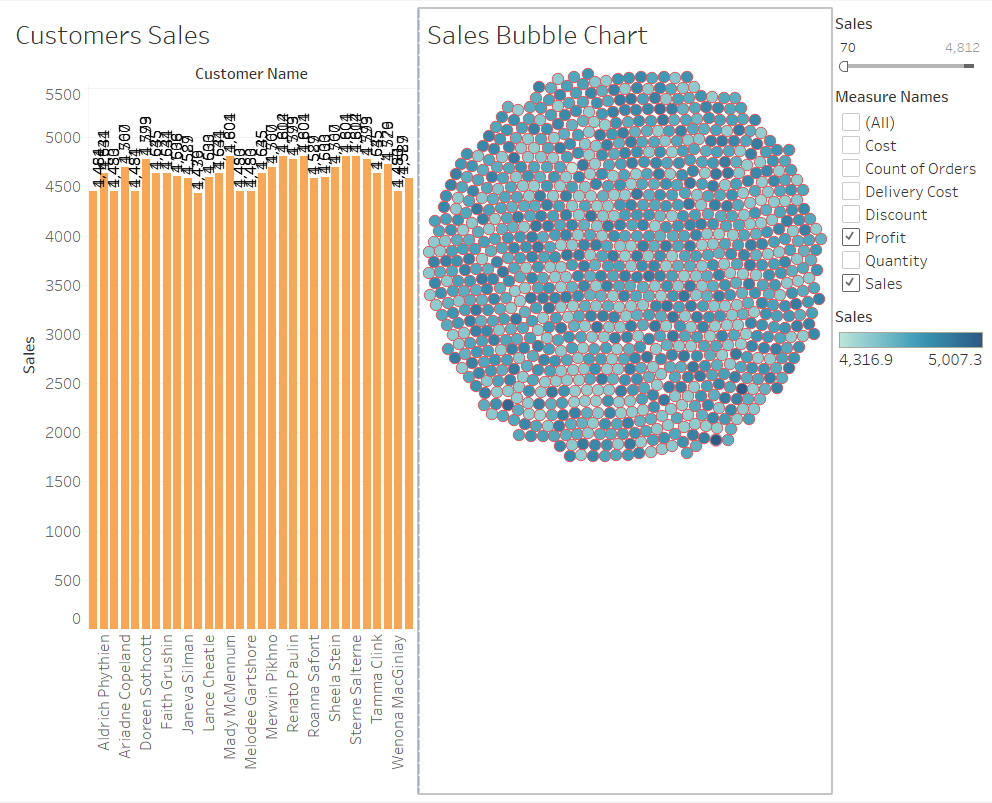

This screenshot's page, from the dashboard's own definition file:
{"tool":"tableau","page":{"name":"Dashboard 1","canvas":[1000,800],"ordinal":0},"visuals":[{"type":"worksheet","title":"Customers Sales","mark":"Automatic","rows":["Sales"],"cols":["Customer Name"],"box":[8,8,412,784]},{"type":"worksheet","title":"Sales Bubble Chart","mark":"Circle","box":[420,8,412,784]},{"type":"filter","title":"Customers Sales","param":"[federated.1w5a8fu1o7yb4117hyact0btv0gf].[sum:Sales:qk]","box":[832,8,160,73]},{"type":"filter","title":"Customers Sales","param":"[federated.1w5a8fu1o7yb4117hyact0btv0gf].[:Measure Names]","box":[832,81,160,220]},{"type":"legend","title":"Sales Bubble Chart","param":"[federated.1w5a8fu1o7yb4117hyact0btv0gf].[sum:Sales:qk]","box":[832,301,160,73]}]}

Visuals, with their boxes in screenshot pixels (x1, y1, x2, y2), scaled from the page's 1000x800 canvas onto the 992x803 screenshot:
"Customers Sales" worksheet: <bbox>8, 8, 417, 795</bbox>
"Sales Bubble Chart" worksheet (Circle marks): <bbox>417, 8, 825, 795</bbox>
"Customers Sales" filter: <bbox>825, 8, 984, 81</bbox>
"Customers Sales" filter: <bbox>825, 81, 984, 302</bbox>
"Sales Bubble Chart" legend: <bbox>825, 302, 984, 375</bbox>
